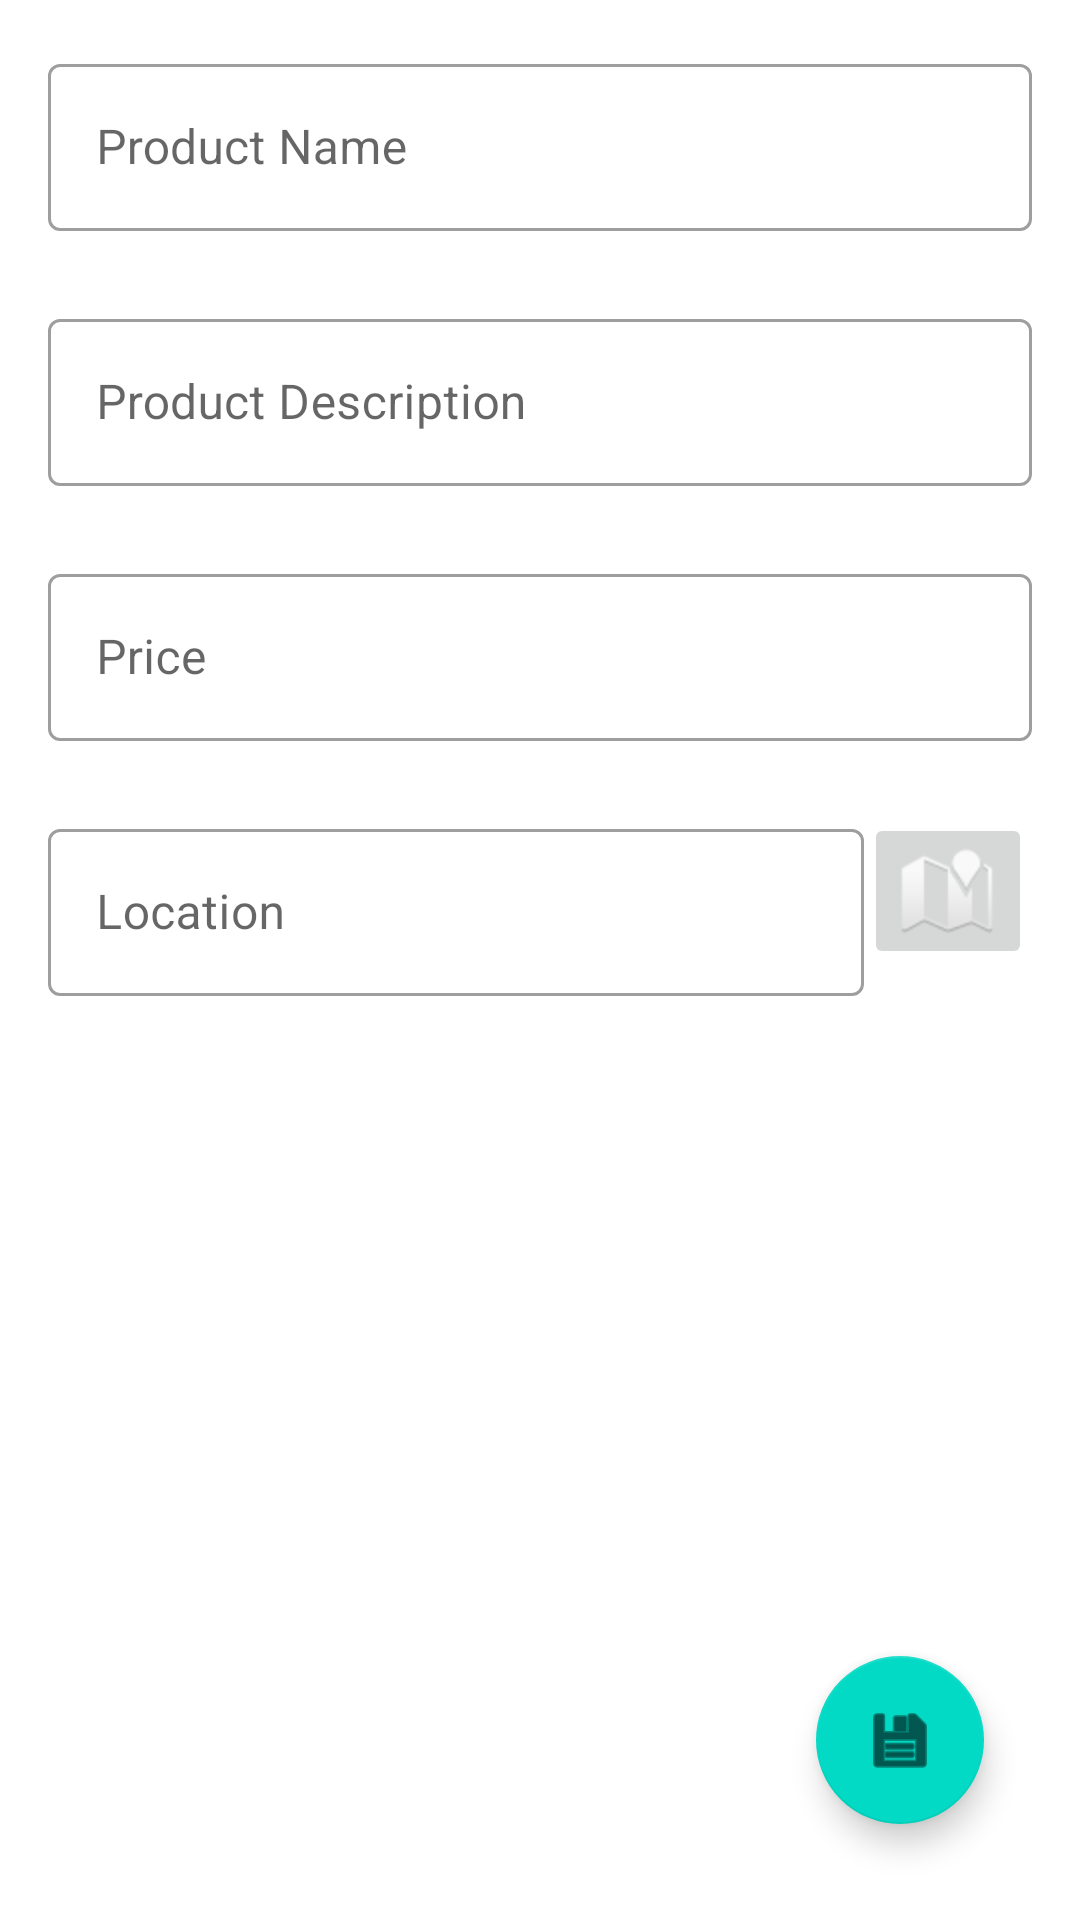

Where to tap for icons on this 1080 × 1920 app screen, as (x,y):
map: (948,891)
save: (900,1740)
